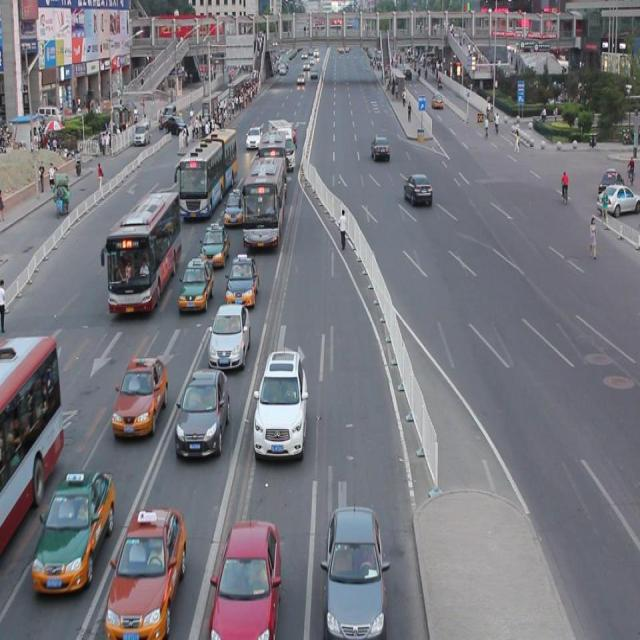bus: (267, 120, 295, 170)
car: (108, 507, 186, 640), (33, 468, 113, 590), (210, 515, 280, 640), (323, 506, 388, 640), (253, 350, 308, 455), (112, 355, 168, 438), (177, 370, 229, 456), (208, 303, 251, 364), (225, 252, 260, 310), (178, 257, 214, 313), (197, 224, 231, 267), (594, 183, 640, 213), (403, 171, 431, 206), (223, 188, 246, 226), (371, 136, 388, 160), (245, 126, 262, 149), (285, 124, 297, 144)
van: (1, 335, 63, 549), (101, 192, 180, 312), (174, 129, 237, 217), (241, 155, 284, 247), (258, 130, 289, 185)
